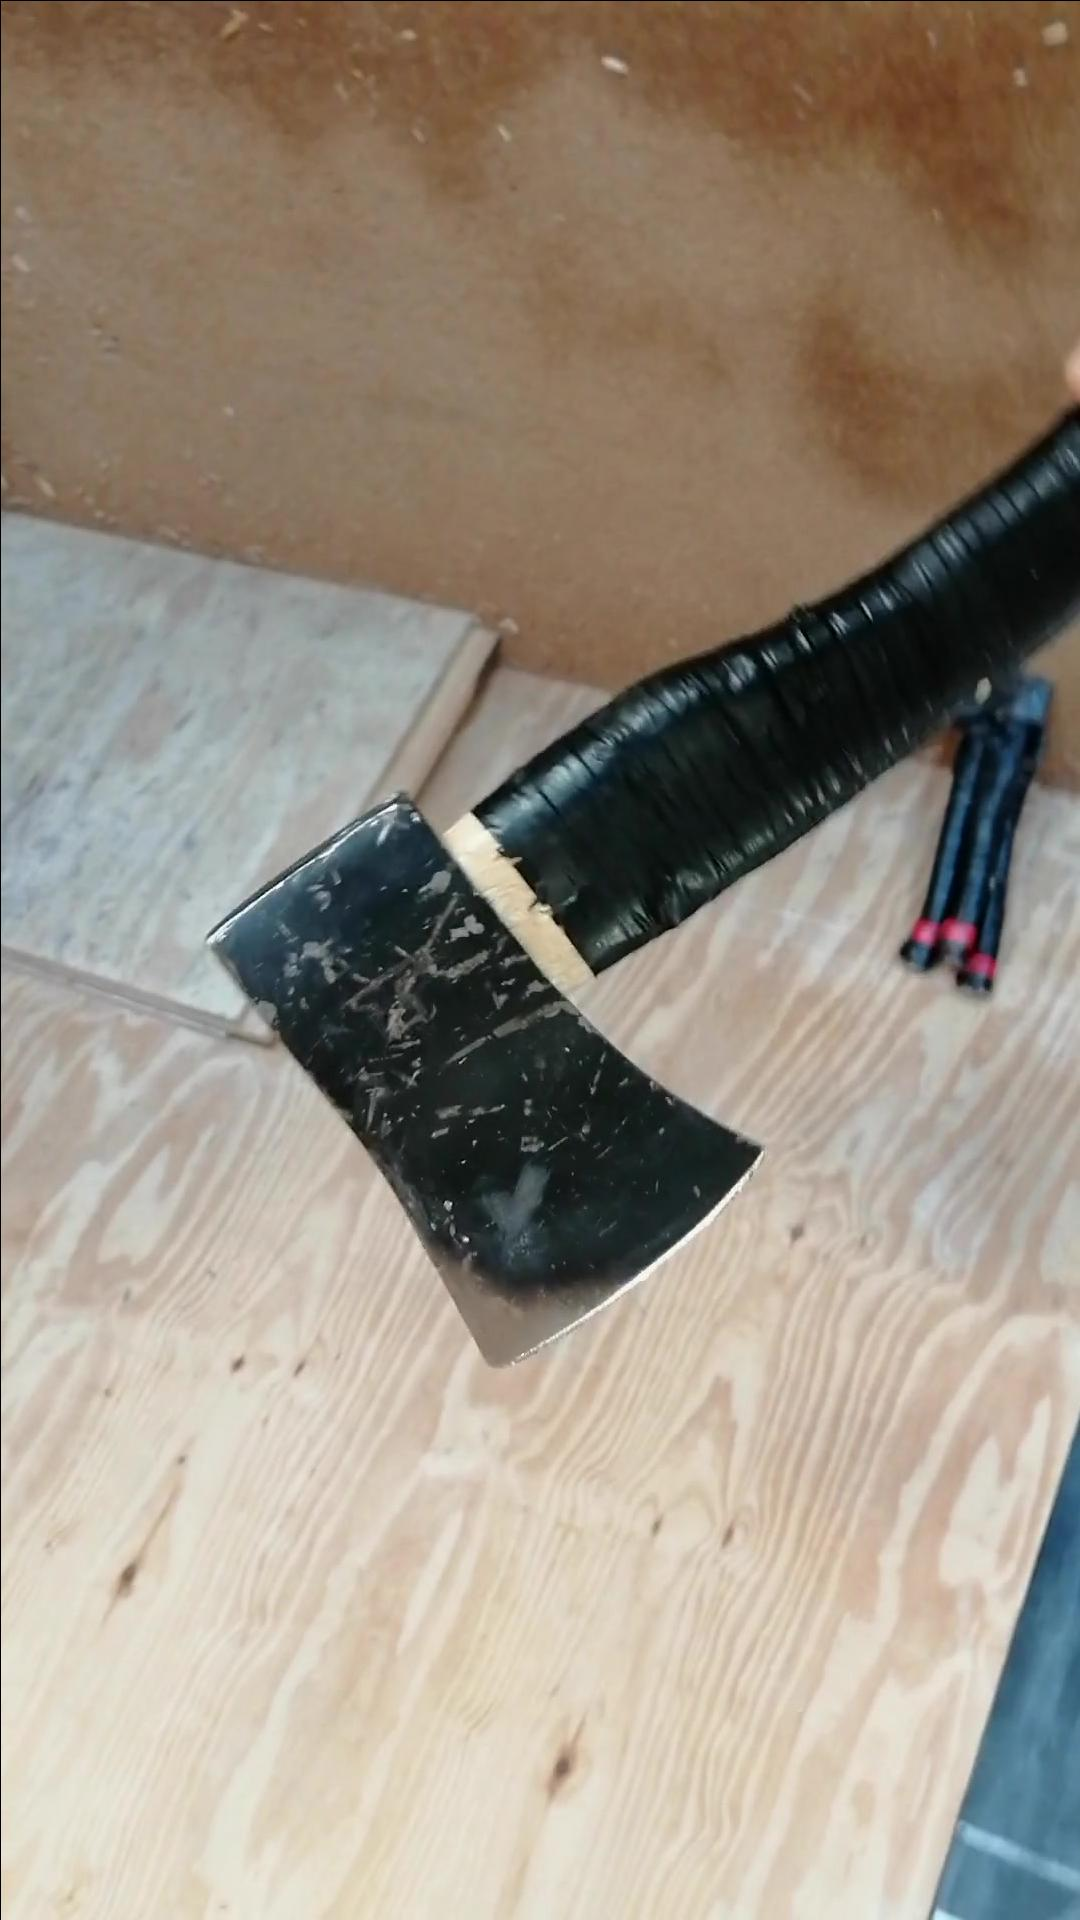Hand Axe: (208, 793, 760, 1370)
